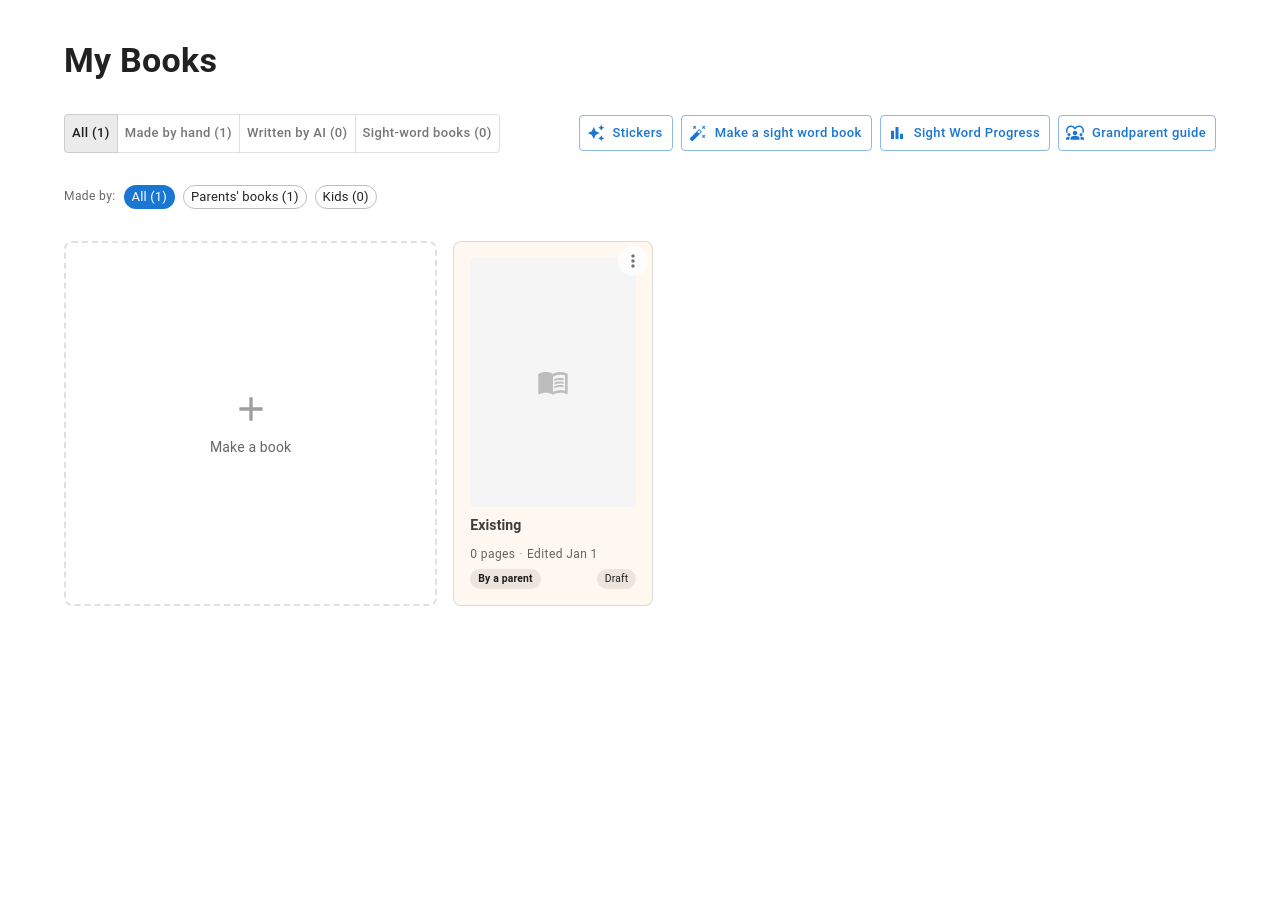
Test: each choice lands where it says › lets the person back out of a choice to the other one
Click the element with test id "new-book-tile". click: (251, 423)
box: 64,241 -> 437,606
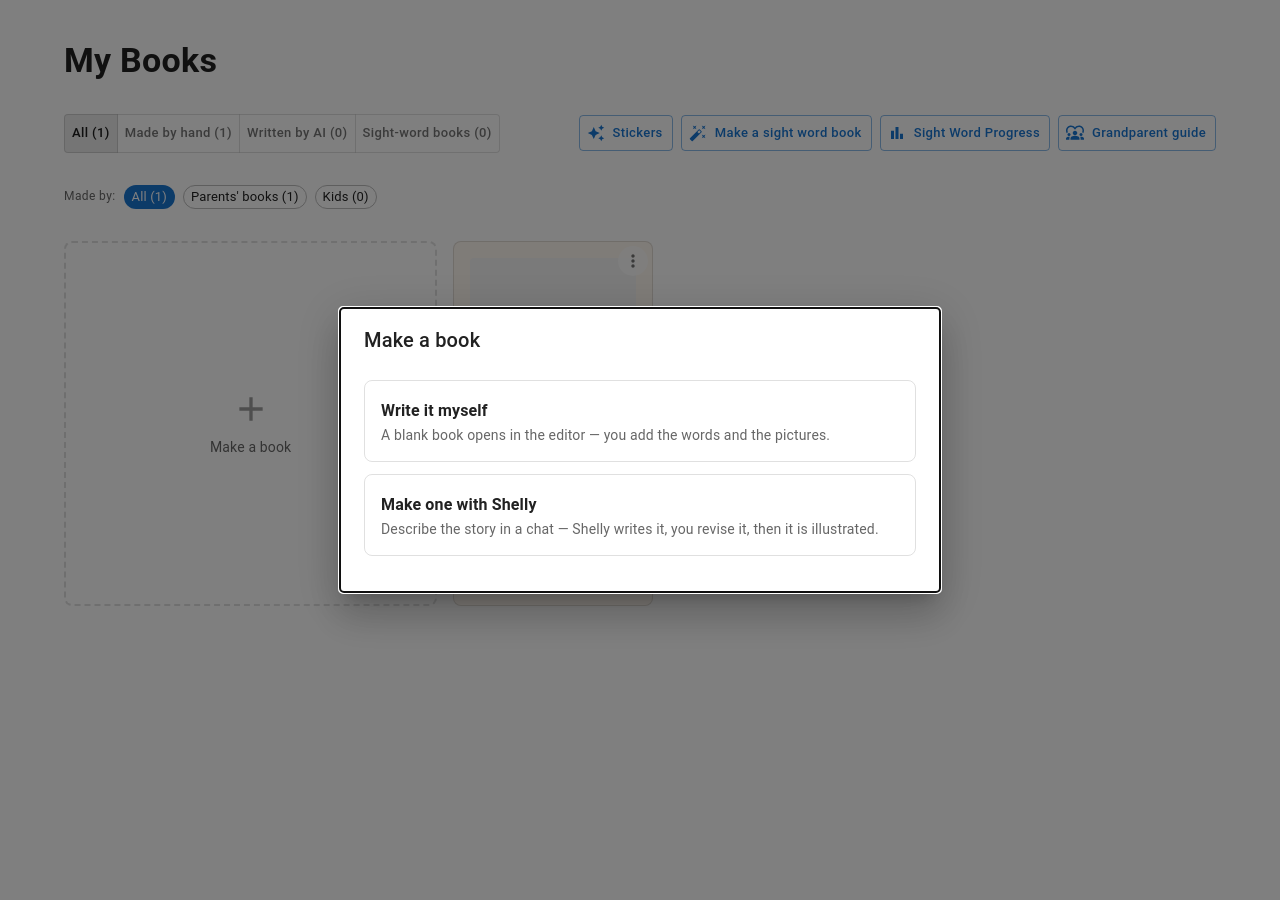
Click the button with test id "make-book-choice-myself". click: (434, 410)
box: 364,380 -> 916,462
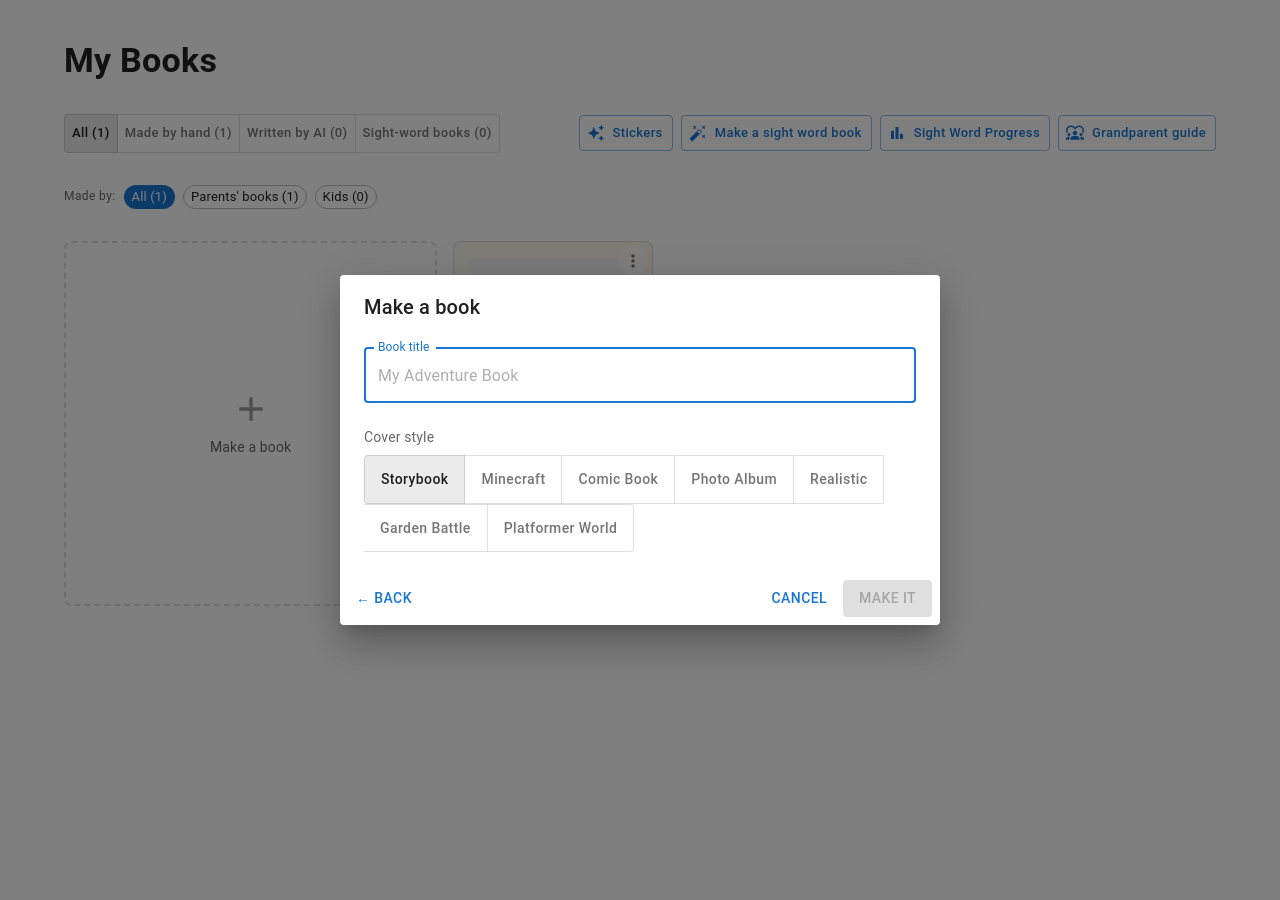
Click the button "← Back". click: (384, 599)
box: 348,580 -> 420,617
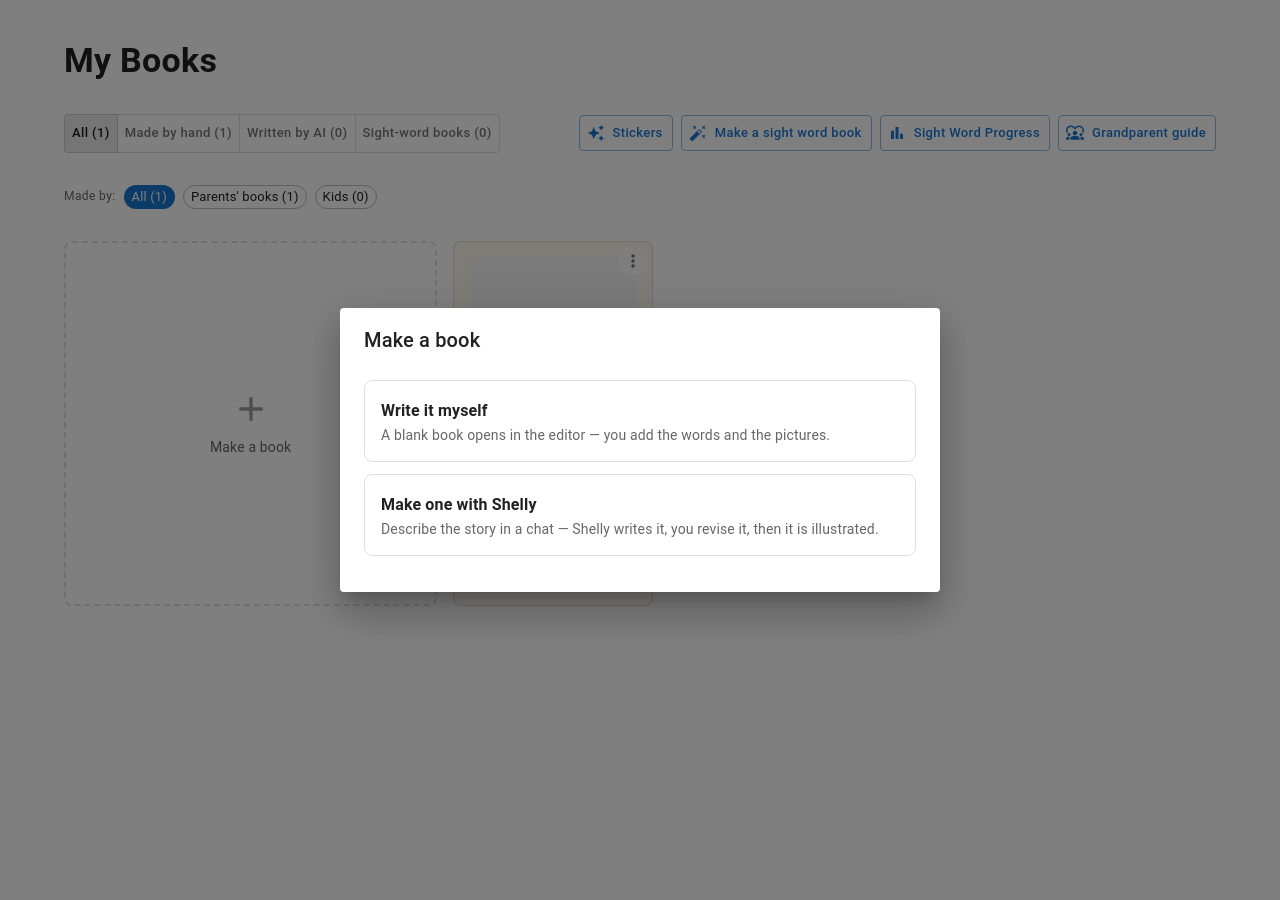
Result: the button with test id "make-book-choice-with-shelly" is shown at 364,474 -> 916,556
Result: the label labelled "Book title" is gone
